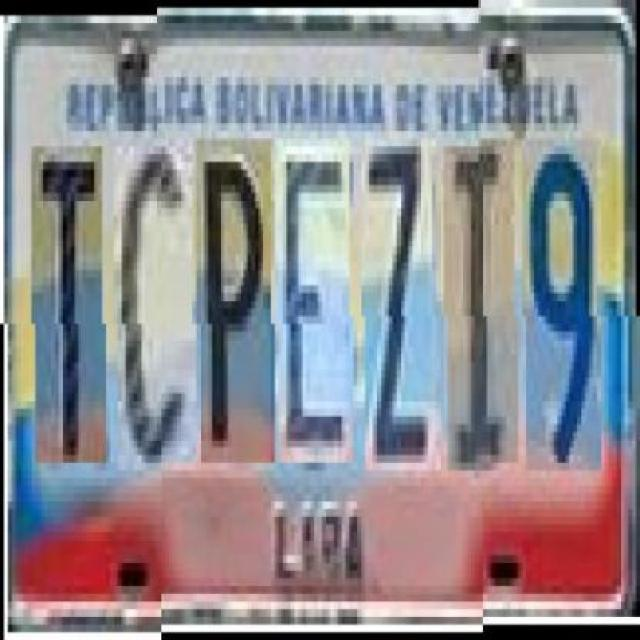9: (526, 146, 602, 479)
c: (117, 139, 197, 463)
e: (278, 139, 354, 463)
i: (448, 146, 518, 471)
p: (200, 139, 275, 463)
t: (36, 138, 106, 456)
z: (365, 138, 440, 471)
